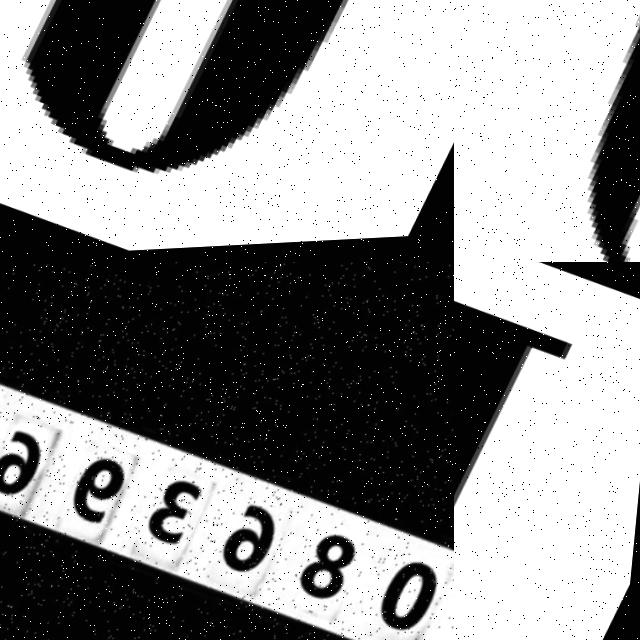0: (355, 531, 454, 640)
3: (130, 454, 238, 571)
6: (201, 477, 321, 606), (0, 405, 79, 522)
8: (280, 507, 398, 633)
9: (48, 426, 165, 551)
G: (0, 0, 454, 231)
J: (464, 0, 640, 262)
